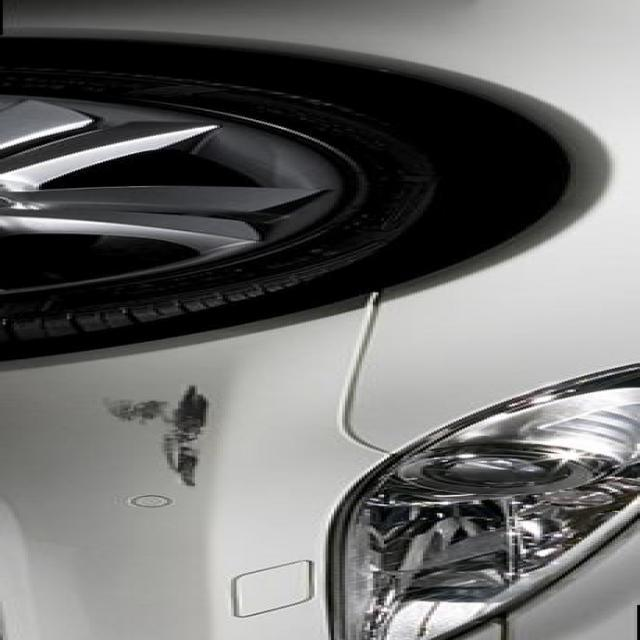scratch: (54, 374, 269, 497)
